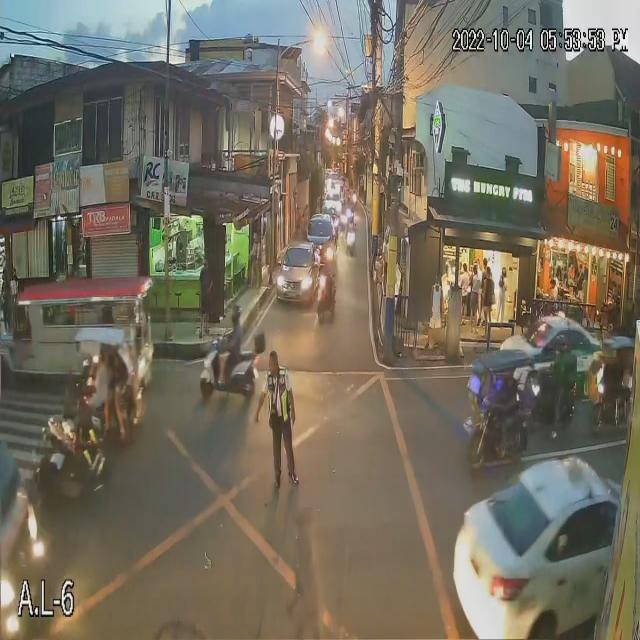helmet: (554, 333, 571, 353), (228, 303, 243, 322)
motorcycle: (197, 341, 260, 399), (525, 363, 576, 421)
rider: (554, 351, 576, 443), (219, 321, 242, 388)
